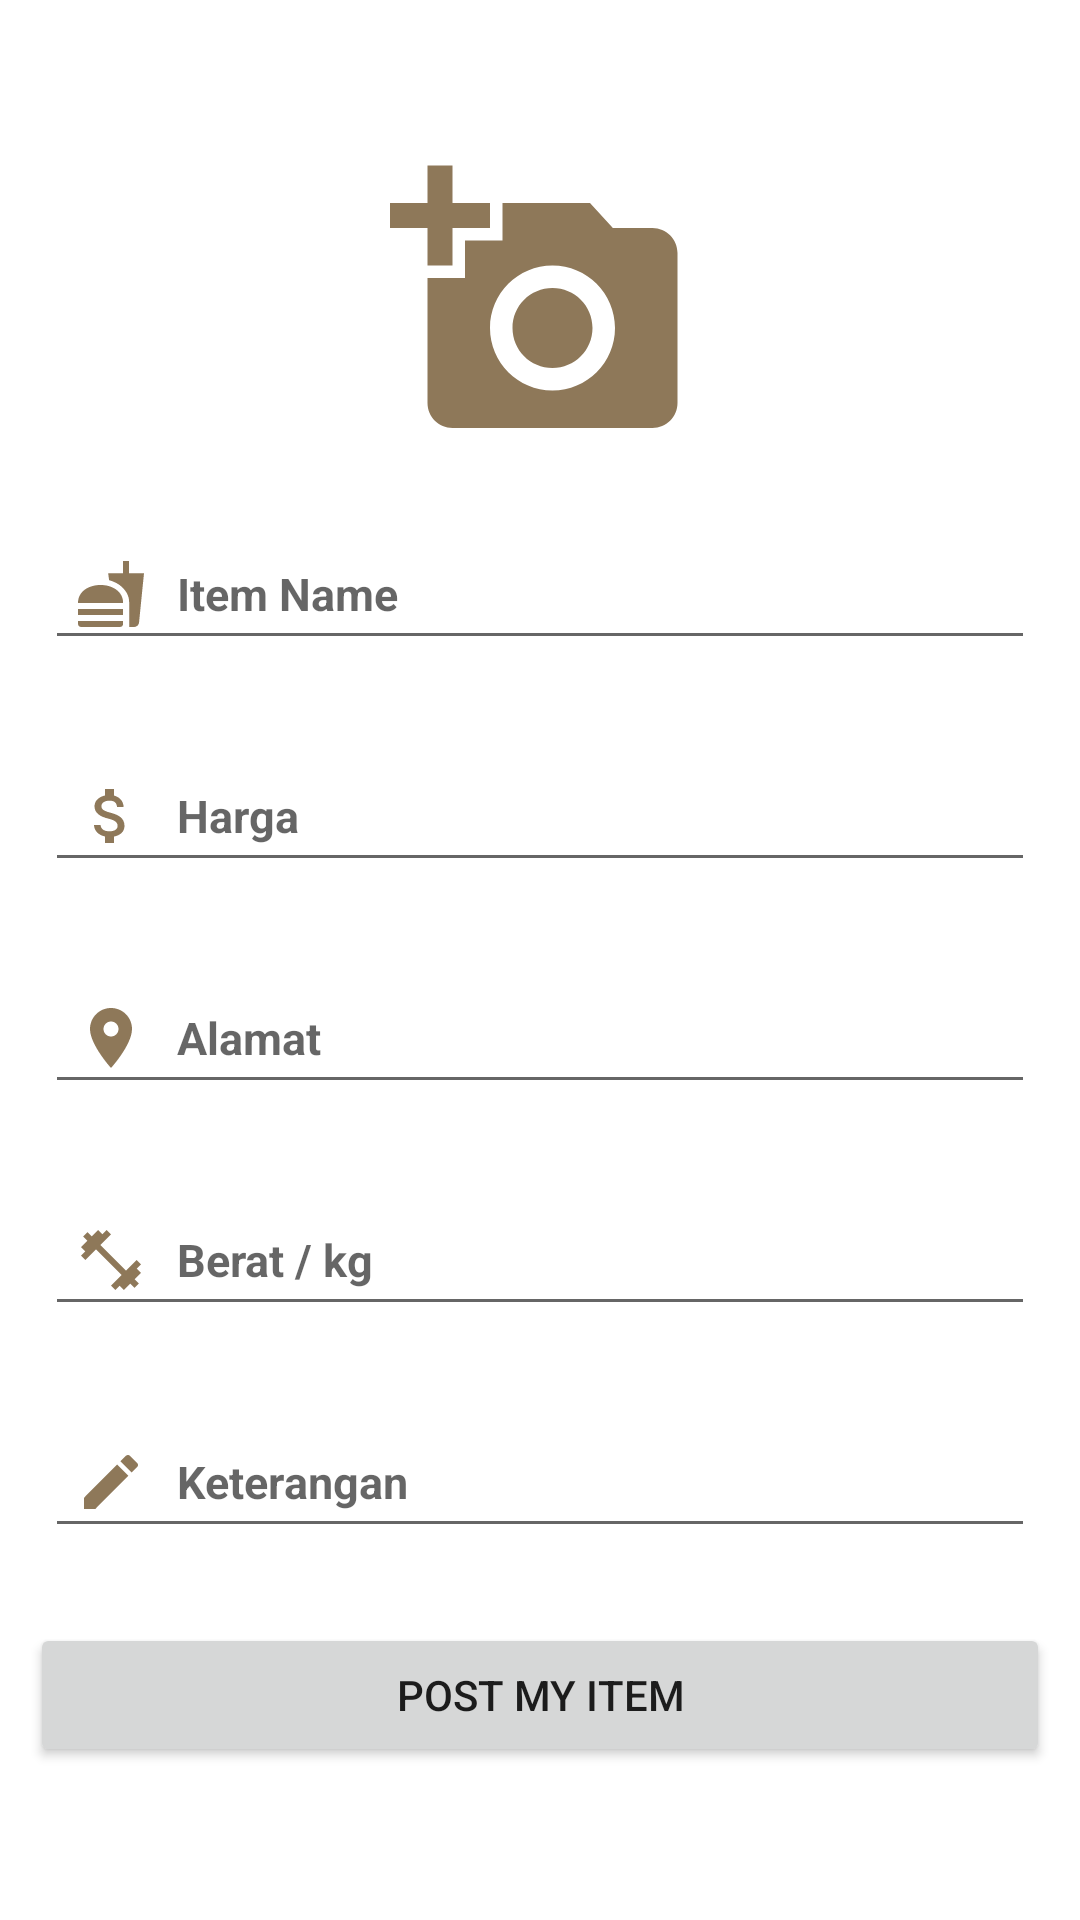

Named icons in this screenshot (1080px×1920px) and their bounding boxes, (x1, y1, x2, y2):
add photo: (390, 165, 678, 428)
